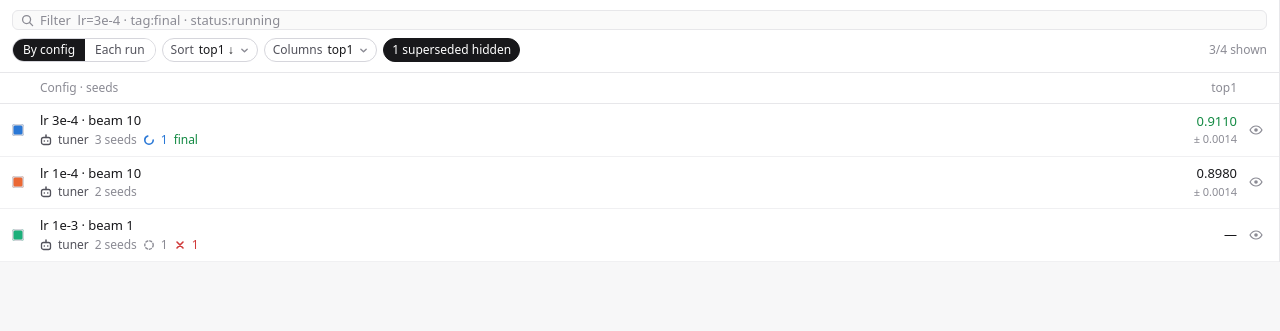
Test: RunsSidebar › the superseded chip hides tagged configs by default and shows them when pressed
Click the button "1 superseded hidden".
click(452, 50)  # box [383, 38, 520, 62]
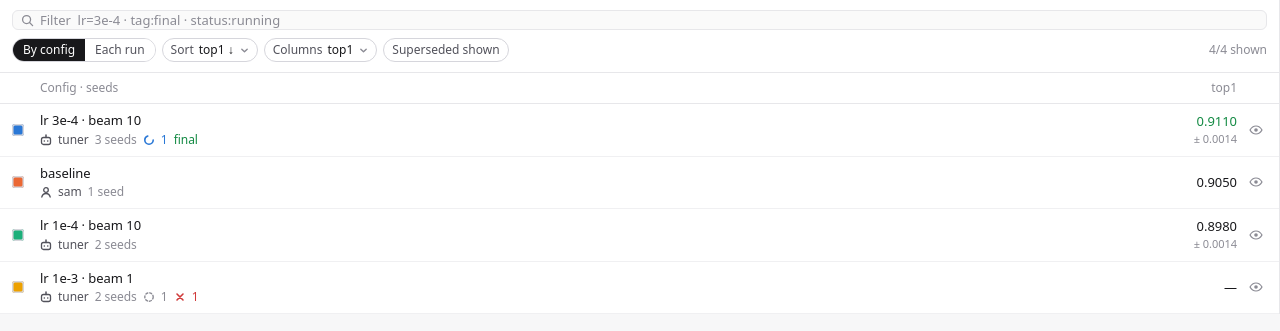
Expected: the number of list items is 4, [0, 104, 1279, 156]; [0, 156, 1279, 209]; [0, 209, 1279, 262]; [0, 262, 1279, 314]
Expected: the text "4/4 shown" is shown, [1209, 41, 1267, 59]
